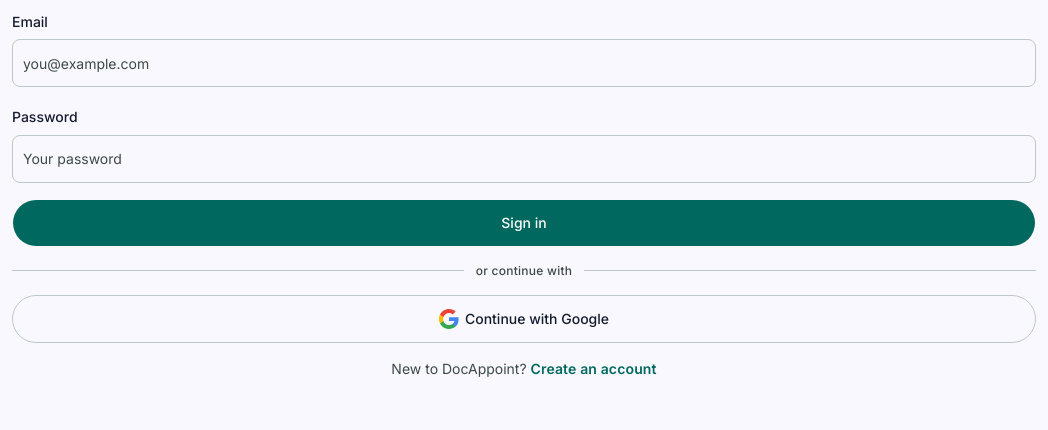
Test: LoginForm › renders the backend's 401 message inline (bad credentials)
In the field labelled "Email": (524, 63) [12,39,1036,87], type "rifat@example.com"
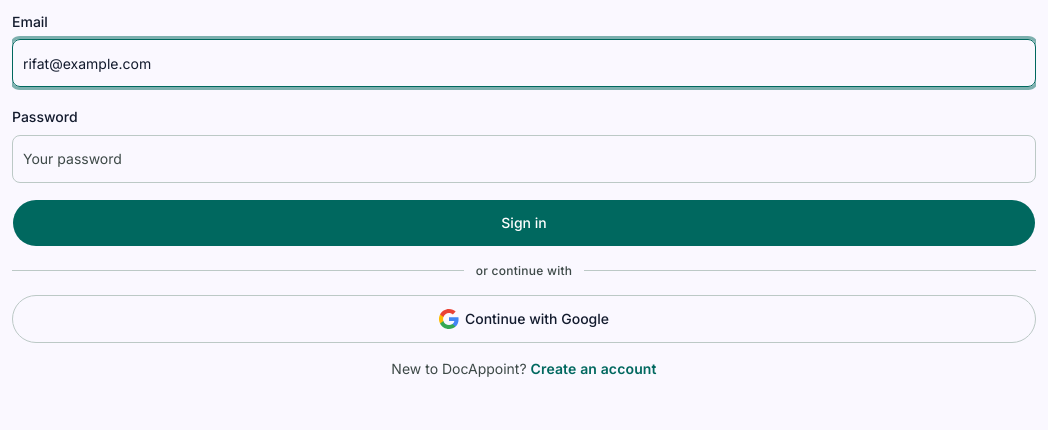
In the password field labelled "Password": (524, 158) [12,134,1036,182], type "wrong"
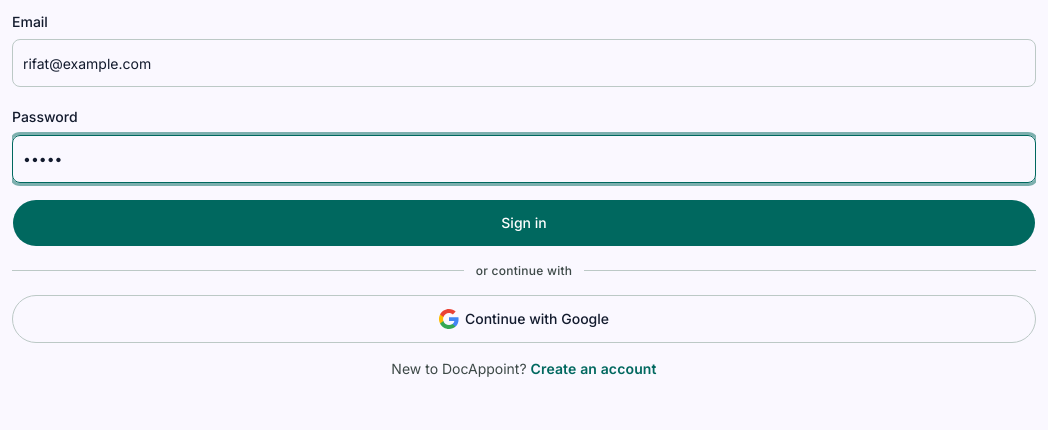
Click the button "Sign in": (524, 222) [12,198,1036,246]
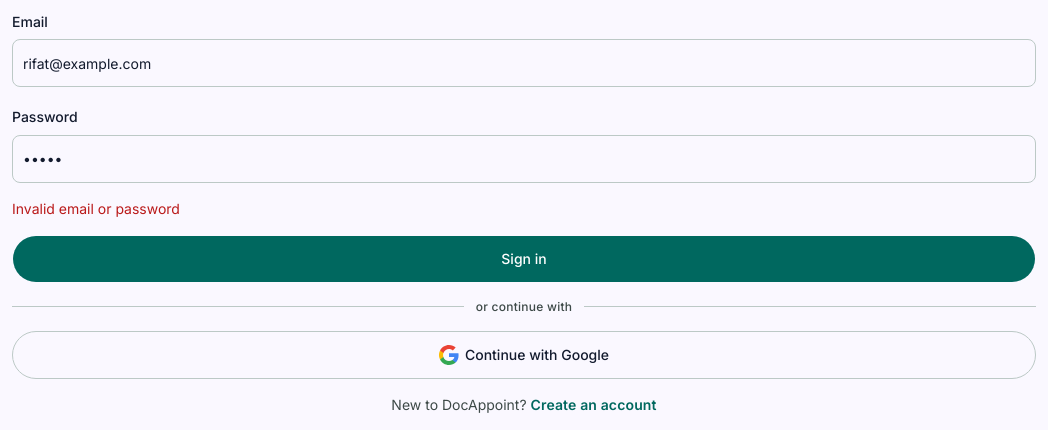
Expected: the text "Invalid email or password" is shown, [12,200,180,216]
